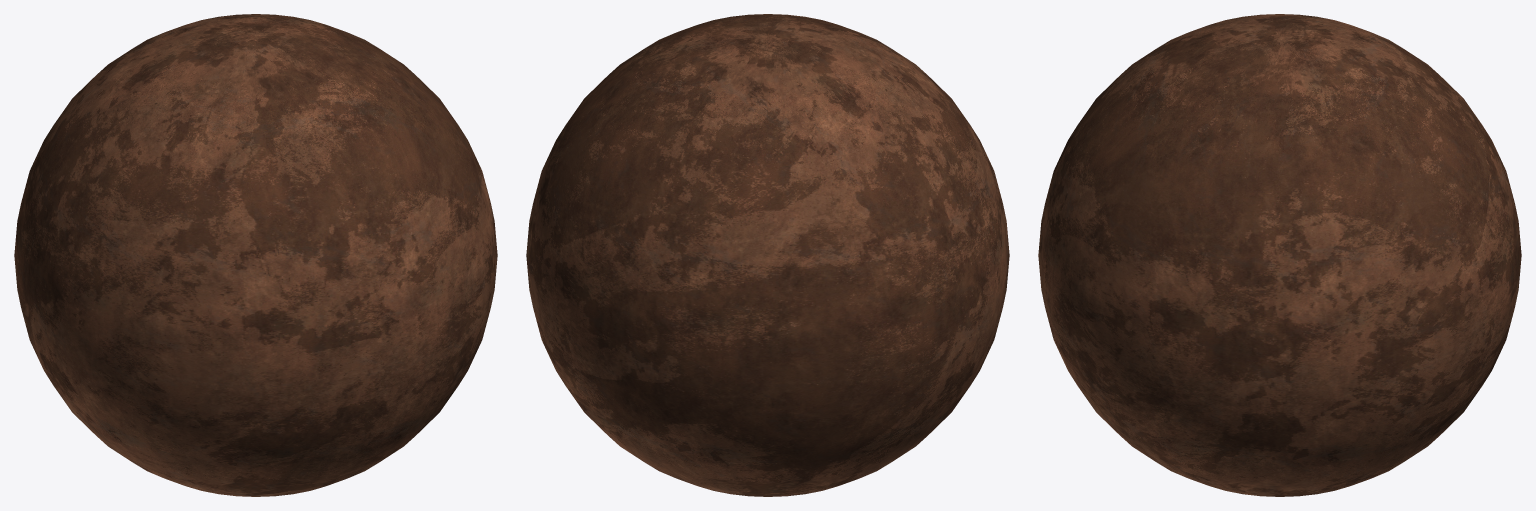
3 views of the same model, side by side, from view 1: azimuth 30°, elevation 25°; view 2: azimuth 150°, elevation 25°; view 3: azimuth 270°, elevation 25° (orthographic).
Visible parts, largest first — view 1: planet_barren; view 2: planet_barren; view 3: planet_barren.
Boxes of the visible parts, <box> form: planet_barren: <box>14,14,497,496</box>; planet_barren: <box>526,14,1009,496</box>; planet_barren: <box>1038,14,1521,496</box>.
Size of the model in its own units: 2 by 2 by 2.
Materials: 1 (1 with a texture image).
